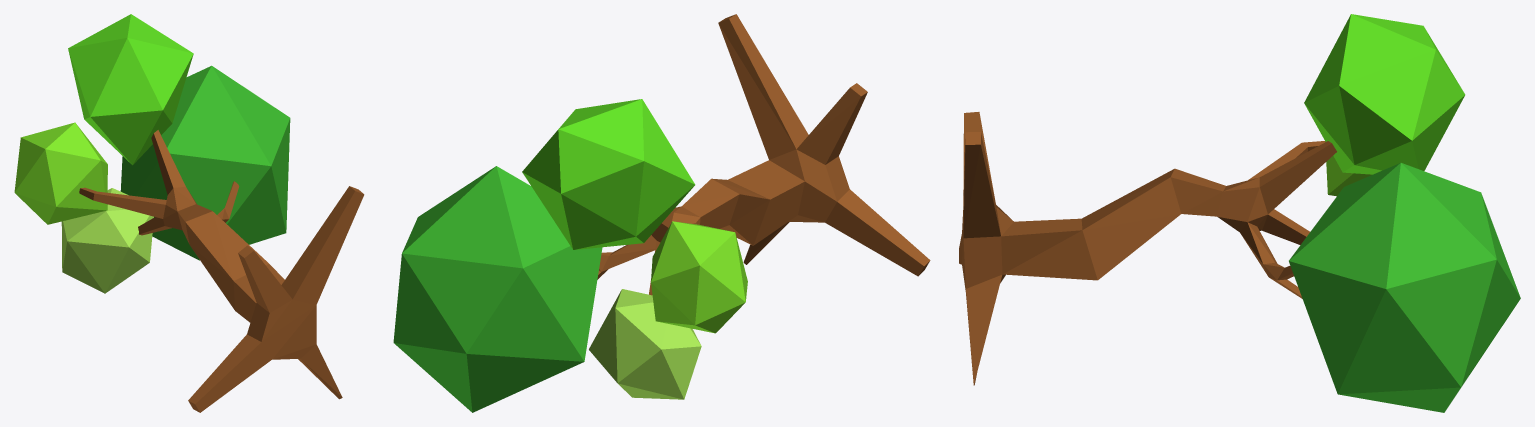
File: Pohon1.fbx
3 views of the same model, side by side, from view 1: azimuth 30°, elevation 25°; view 2: azimuth 150°, elevation 25°; view 3: azimuth 270°, elevation 25° (orthographic). The views are drawn at different scales.
Parts seen in each view (by area): view 1: Pohon 1; view 2: Pohon 1; view 3: Pohon 1.
Boxes of the visible parts, x1,y1,x2,y2 form: Pohon 1: (14, 14, 364, 412); Pohon 1: (393, 14, 930, 412); Pohon 1: (959, 14, 1520, 412).
Size of the model in its own units: 118 by 108 by 165.
